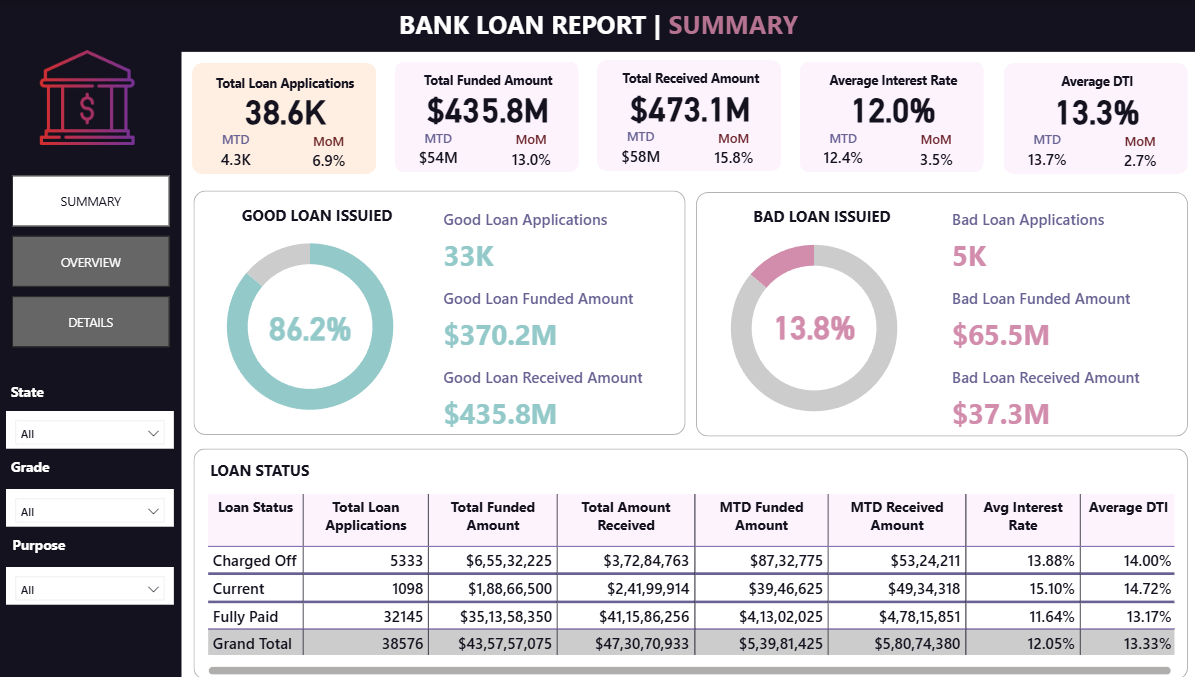

This screenshot's page, from the dashboard's own definition file:
{"tool":"powerbi","page":{"name":"SUMMARY","canvas":[1280,720],"ordinal":0},"visuals":[{"type":"shape","box":[643.1,63.6,195.6,117.7],"z":0,"group":"g3"},{"type":"shape","box":[428.1,65.2,195.6,117.7],"z":0,"group":"g2"},{"type":"shape","box":[858,65.2,195.6,117.7],"z":0,"group":"g4"},{"type":"shape","box":[213.1,66.8,195.6,117.7],"z":0,"group":"g1"},{"type":"shape","box":[1073,66.8,195.6,117.7],"z":0,"group":"g5"},{"type":"shape","box":[214.7,475.6,1054.6,245],"z":0},{"type":"shape","box":[9.5,0,1270,55],"z":1000},{"type":"card","fields":{"Values":["Bank_loan_data.Total Amount Received"]},"box":[644.7,87.5,194.1,49.3],"z":1000,"group":"g3"},{"type":"card","fields":{"Values":["Bank_loan_data.Total Funded Amount"]},"box":[429.7,89.1,194.1,49.3],"z":1000,"group":"g2"},{"type":"card","fields":{"Values":["Bank_loan_data.Avg Interest Rate"]},"box":[859.6,89.1,194.1,49.3],"z":1000,"group":"g4"},{"type":"card","fields":{"Values":["Bank_loan_data.Total Loan Applications"]},"box":[214.7,90.7,194.1,49.3],"z":1000,"group":"g1"},{"type":"card","fields":{"Values":["Bank_loan_data.Average DTI"]},"box":[1074.6,90.7,194.1,49.3],"z":1000,"group":"g5"},{"type":"textbox","box":[644.7,68.4,195.6,33.4],"z":2000,"group":"g3"},{"type":"textbox","box":[429.7,70,195.6,33.4],"z":2000,"group":"g2"},{"type":"textbox","box":[859.6,70,195.6,33.4],"z":2000,"group":"g4"},{"type":"textbox","box":[1074.6,71.6,195.6,33.4],"z":2000,"group":"g5"},{"type":"textbox","box":[214.5,73.5,194.1,31.8],"z":2000,"group":"g1"},{"type":"shape","box":[214.7,202,521.7,259.3],"z":2000},{"type":"shape","box":[9.5,44.5,192.5,676],"z":3000},{"type":"card","title":"MTD","fields":{"Values":["Bank_loan_data.MTD Total Received Amount"]},"box":[657.4,135.2,63.6,44.5],"z":3000,"group":"g3"},{"type":"card","title":"MTD","fields":{"Values":["Bank_loan_data.MTD Funded Amount"]},"box":[442.4,136.8,63.6,44.5],"z":3000,"group":"g2"},{"type":"card","title":"MTD","fields":{"Values":["Bank_loan_data.MTD Avg Int Rate"]},"box":[872.3,136.8,63.6,44.5],"z":3000,"group":"g4"},{"type":"card","title":"MTD","fields":{"Values":["Bank_loan_data.MTD Loan Applications"]},"box":[227.4,138.4,63.6,44.5],"z":3000,"group":"g1"},{"type":"card","title":"MTD","fields":{"Values":["Bank_loan_data.MTD Avg DTI"]},"box":[1087.3,138.4,63.6,44.5],"z":3000,"group":"g5"},{"type":"card","title":"MoM","fields":{"Values":["Bank_loan_data.MoM Total Received Amount"]},"box":[756,136.8,63.6,44.5],"z":4000,"group":"g3"},{"type":"card","title":"MoM","fields":{"Values":["Bank_loan_data.MoM Total Funded Amount"]},"box":[541,138.4,63.6,44.5],"z":4000,"group":"g2"},{"type":"card","title":"MoM","fields":{"Values":["Bank_loan_data.MoM Avg int Rate"]},"box":[970.9,138.4,63.6,44.5],"z":4000,"group":"g4"},{"type":"card","title":"MoM","fields":{"Values":["Bank_loan_data.MoM Loan Application"]},"box":[326,140,63.6,44.5],"z":4000,"group":"g1"},{"type":"card","title":"MoM","fields":{"Values":["Bank_loan_data.MoM Avg DTI"]},"box":[1185.9,140,63.6,44.5],"z":4000,"group":"g5"},{"type":"card","fields":{"Values":["Bank_loan_data.Good Loan %"]},"box":[278.4,321.3,119.3,49.3],"z":4000},{"type":"textbox","box":[300.6,1.6,687.1,50.9],"z":5000},{"type":"group","id":"g1","title":"Group 1","box":[213.1,66.8,195.6,117.7],"z":6000},{"type":"group","id":"g2","title":"Group 1","box":[428.1,65.2,197.2,117.7],"z":7000},{"type":"group","id":"g3","title":"Group 1","box":[643.1,63.6,197.2,117.7],"z":8000},{"type":"group","id":"g4","title":"Group 1","box":[858,65.2,197.2,117.7],"z":9000},{"type":"group","id":"g5","title":"Group 1","box":[1073,66.8,197.2,117.7],"z":10000},{"type":"donutChart","fields":{"Category":["Bank_loan_data.Good vs Bad Loan"],"Y":["Bank_loan_data.Total Loan Applications"]},"box":[213.1,230.6,249.7,230.6],"z":11000},{"type":"shape","box":[747.6,203.6,521.7,259.3],"z":12000},{"type":"textbox","box":[260.9,211.6,184.5,33.4],"z":13000},{"type":"cardVisual","fields":{"Data":["Bank_loan_data.Good Loan Applications","Bank_loan_data.Good Loan Funded Amount","Bank_loan_data.Good Loan Received Amount"]},"box":[462.9,203.6,257.7,257.7],"z":14000},{"type":"donutChart","fields":{"Category":["Bank_loan_data.Good vs Bad Loan"],"Y":["Bank_loan_data.Total Loan Applications"]},"box":[747.6,232.2,249.7,230.6],"z":15000},{"type":"textbox","box":[803.3,213.1,184.5,33.4],"z":16000},{"type":"card","fields":{"Values":["Bank_loan_data.Bad Loan %"]},"box":[812.8,319.7,119.3,49.3],"z":17000},{"type":"cardVisual","fields":{"Data":["Bank_loan_data.Bad Loan Applications","Bank_loan_data.Bad Loan Funded Amount","Bank_loan_data.Bad Loan Received Amount"]},"box":[1002.1,203.6,257.7,257.7],"z":18000},{"type":"tableEx","fields":{"Values":["Bank_loan_data.loan_status","Bank_loan_data.Total Loan Applications","Bank_loan_data.Total Funded Amount","Bank_loan_data.Total Amount Received","Bank_loan_data.MTD Funded Amount","Bank_loan_data.MTD Total Received Amount","Bank_loan_data.Avg Interest Rate","Bank_loan_data.Average DTI"]},"box":[224.3,518.5,1035.5,202],"z":19000},{"type":"textbox","box":[227.5,482,200.4,36.6],"z":20000},{"type":"slicer","fields":{"Values":["Bank_loan_data.address_state"]},"box":[15.9,435.8,178.1,39.8],"z":21000},{"type":"textbox","box":[15.9,399.2,65.2,36.6],"z":22000},{"type":"slicer","fields":{"Values":["Bank_loan_data.grade"]},"box":[15.9,518.5,178.1,39.8],"z":23000},{"type":"textbox","box":[15.9,478.8,65.2,36.6],"z":24000},{"type":"slicer","fields":{"Values":["Bank_loan_data.purpose"]},"box":[15.9,601.3,178.1,39.8],"z":25000},{"type":"textbox","box":[17.5,561.5,87.5,36.6],"z":26000},{"type":"image","box":[35,44.5,133.6,117.7],"z":27000},{"type":"pageNavigator","box":[22.3,186.1,167,182.9],"z":28000}]}

Visuals, with their boxes in screenshot pixels (x1, y1, x2, y2), scaled from the page's 1280x720 canvas onto the 1195x677 screenshot:
shape: l=600, t=60, r=783, b=170
shape: l=400, t=61, r=582, b=172
shape: l=801, t=61, r=984, b=172
shape: l=199, t=63, r=382, b=173
shape: l=1002, t=63, r=1184, b=173
shape: l=200, t=447, r=1185, b=676
shape: l=9, t=0, r=1194, b=52
card - Bank_loan_data.Total Amount Received: l=602, t=82, r=783, b=129
card - Bank_loan_data.Total Funded Amount: l=401, t=84, r=582, b=130
card - Bank_loan_data.Avg Interest Rate: l=803, t=84, r=984, b=130
card - Bank_loan_data.Total Loan Applications: l=200, t=85, r=382, b=132
card - Bank_loan_data.Average DTI: l=1003, t=85, r=1184, b=132
textbox: l=602, t=64, r=784, b=96
textbox: l=401, t=66, r=584, b=97
textbox: l=803, t=66, r=985, b=97
textbox: l=1003, t=67, r=1186, b=99
textbox: l=200, t=69, r=381, b=99
shape: l=200, t=190, r=687, b=434
shape: l=9, t=42, r=189, b=676
"MTD" card: l=614, t=127, r=673, b=169
"MTD" card: l=413, t=129, r=472, b=170
"MTD" card: l=814, t=129, r=874, b=170
"MTD" card: l=212, t=130, r=272, b=172
"MTD" card: l=1015, t=130, r=1074, b=172
"MoM" card: l=706, t=129, r=765, b=170
"MoM" card: l=505, t=130, r=564, b=172
"MoM" card: l=906, t=130, r=966, b=172
"MoM" card: l=304, t=132, r=364, b=173
"MoM" card: l=1107, t=132, r=1167, b=173
card - Bank_loan_data.Good Loan %: l=260, t=302, r=371, b=348
textbox: l=281, t=2, r=922, b=49
"Group 1" group: l=199, t=63, r=382, b=173
"Group 1" group: l=400, t=61, r=584, b=172
"Group 1" group: l=600, t=60, r=784, b=170
"Group 1" group: l=801, t=61, r=985, b=172
"Group 1" group: l=1002, t=63, r=1186, b=173
donutChart - Bank_loan_data.Good vs Bad Loan x Bank_loan_data.Total Loan Applications: l=199, t=217, r=432, b=434
shape: l=698, t=191, r=1185, b=435
textbox: l=244, t=199, r=416, b=230
cardVisual - Bank_loan_data.Good Loan Applications x Bank_loan_data.Good Loan Funded Amount: l=432, t=191, r=673, b=434
donutChart - Bank_loan_data.Good vs Bad Loan x Bank_loan_data.Total Loan Applications: l=698, t=218, r=931, b=435
textbox: l=750, t=200, r=922, b=232
card - Bank_loan_data.Bad Loan %: l=759, t=301, r=870, b=347
cardVisual - Bank_loan_data.Bad Loan Applications x Bank_loan_data.Bad Loan Funded Amount: l=936, t=191, r=1176, b=434
tableEx - Bank_loan_data.loan_status x Bank_loan_data.Total Loan Applications: l=209, t=488, r=1176, b=676
textbox: l=212, t=453, r=399, b=488
slicer - Bank_loan_data.address_state: l=15, t=410, r=181, b=447
textbox: l=15, t=375, r=76, b=410
slicer - Bank_loan_data.grade: l=15, t=488, r=181, b=525
textbox: l=15, t=450, r=76, b=485
slicer - Bank_loan_data.purpose: l=15, t=565, r=181, b=603
textbox: l=16, t=528, r=98, b=562
image: l=33, t=42, r=157, b=153
pageNavigator: l=21, t=175, r=177, b=347
